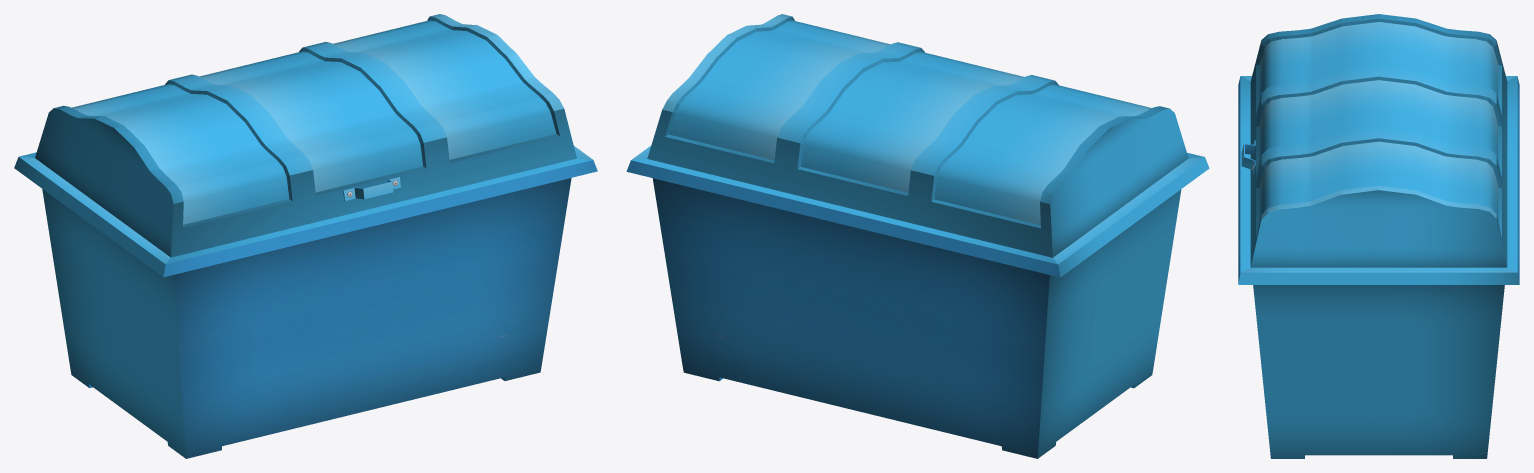
3 views of the same model, side by side, from view 1: azimuth 30°, elevation 25°; view 2: azimuth 150°, elevation 25°; view 3: azimuth 270°, elevation 25° (orthographic). The views are drawn at different scales.
Parts seen in each view (by area): view 1: MainBuilding; view 2: MainBuilding; view 3: MainBuilding.
Boxes of the visible parts, left/top/right/bottom form: MainBuilding: left=14, top=14, right=597, bottom=458; MainBuilding: left=626, top=14, right=1209, bottom=458; MainBuilding: left=1238, top=14, right=1519, bottom=458.
Bounding box in the file's own units: 1.62 × 1.04 × 0.9655.
1 material, 1 textured.
